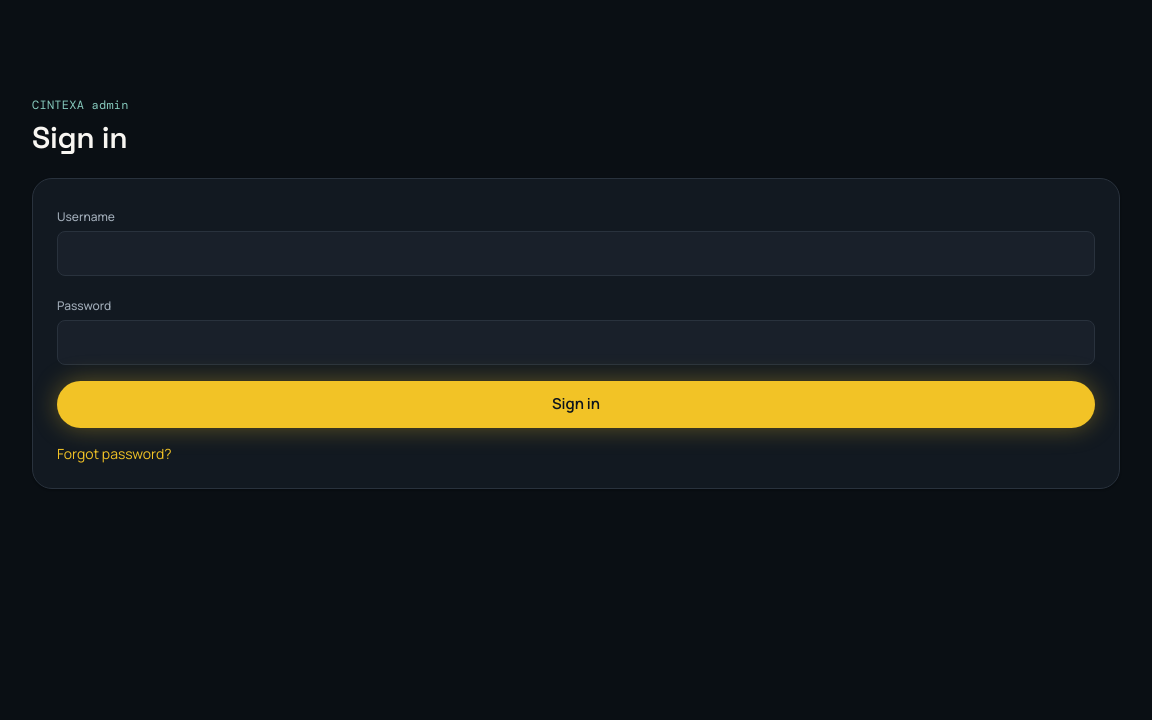
Test: the console › overview shows totals, trends, countries and recent activity
Type "kyle.admin" into the field labelled "Username".
click(576, 253); type("kyle.admin")  # box [57, 230, 1095, 276]
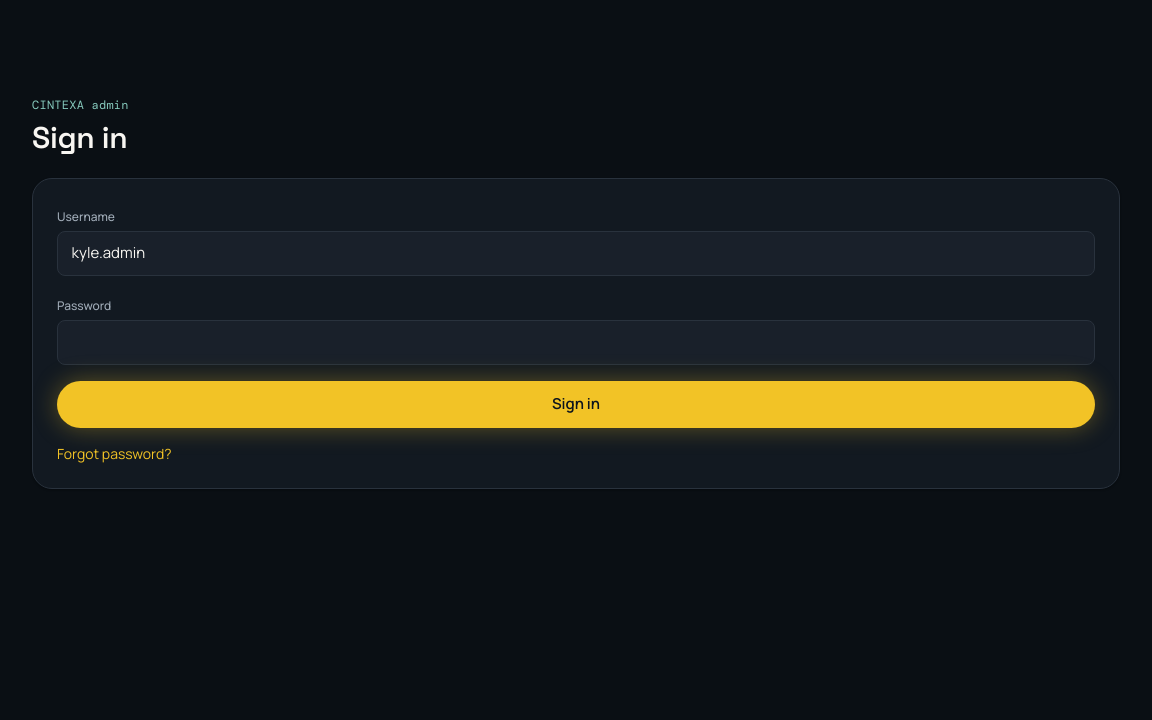
Type "Adm1n!Strong-Pass-99" into the password field labelled "Password".
click(576, 342); type("Adm1n!Strong-Pass-99")  # box [57, 320, 1095, 365]
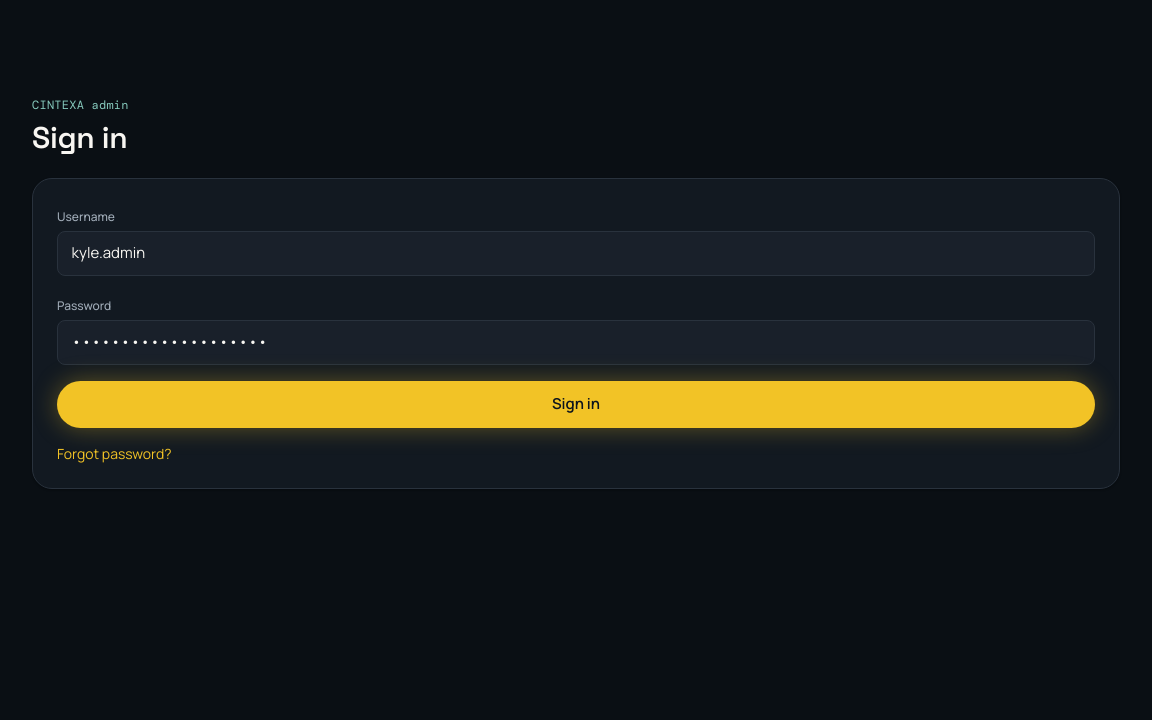
Click the button "Sign in".
click(576, 405)  # box [57, 381, 1095, 428]
(page scrolled)
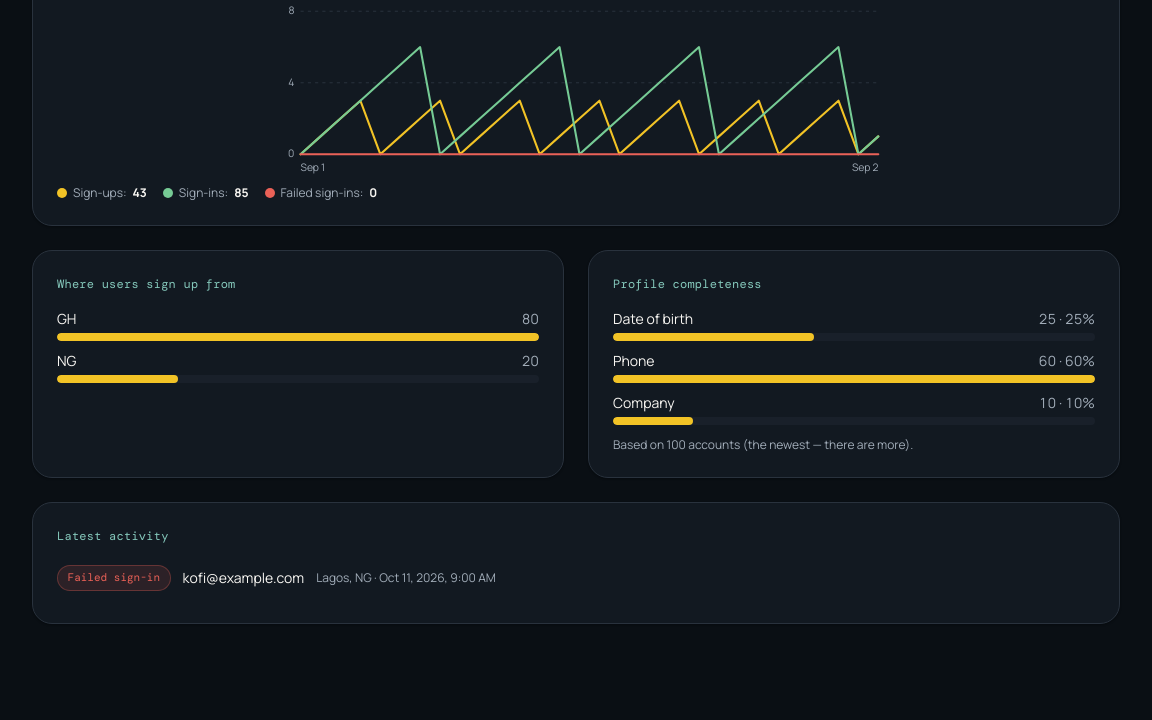
Expected: the picture named "Sign-ups, sign-ins and failed sign-ins per day" is shown, [57, 1, 1095, 177]
Expected: the text "GH" is shown, [57, 309, 76, 329]
Expected: the text "Based on 100 accounts (the newest — there are more)." is shown, [613, 436, 913, 453]
